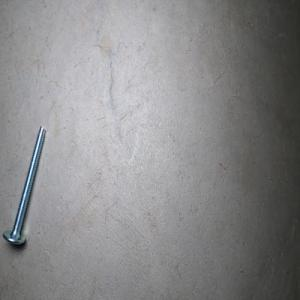Bolt: (2, 125, 46, 245)
